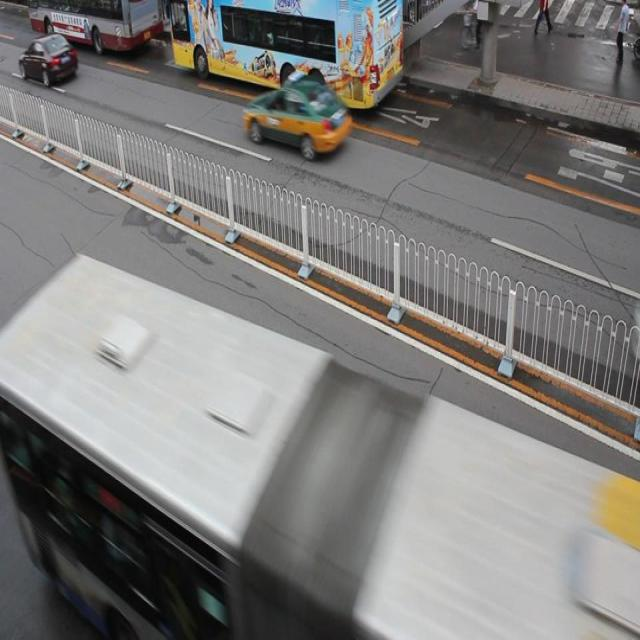car: (243, 76, 352, 156), (19, 35, 80, 87)
van: (0, 253, 640, 640), (169, 2, 401, 112), (29, 1, 161, 50)
